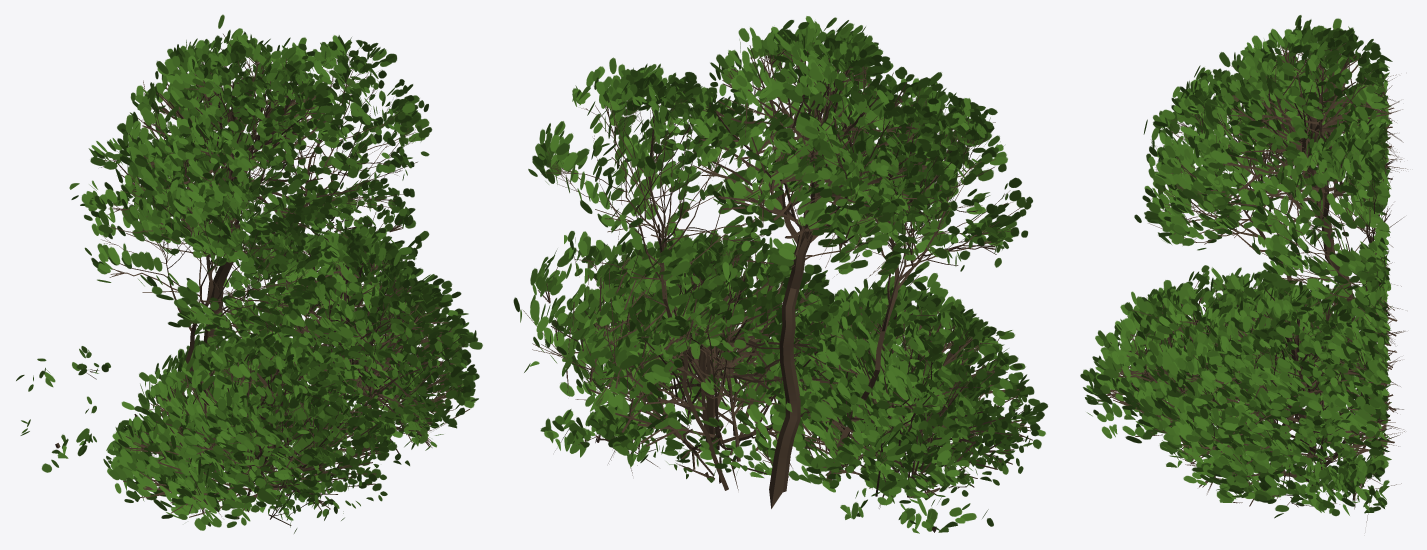
The picture shows the model from 3 angles, left to right: view 1: azimuth 30°, elevation 25°; view 2: azimuth 150°, elevation 25°; view 3: azimuth 270°, elevation 25°; orthographic projection. The views are drawn at different scales.
Visible parts, largest first — view 1: oak 01.001_trunk_Mat.001_0.432; view 2: oak 01.001_trunk_Mat.001_0.432; view 3: oak 01.001_trunk_Mat.001_0.432.
Part boxes in pixels (left/top/right/bottom): oak 01.001_trunk_Mat.001_0.432: left=16, top=14, right=482, bottom=533; oak 01.001_trunk_Mat.001_0.432: left=513, top=16, right=1047, bottom=533; oak 01.001_trunk_Mat.001_0.432: left=1080, top=15, right=1407, bottom=522.
Bounding box in the file's own units: 3.53 × 3.5 × 2.51.
Materials: 2 (1 with a texture image).
